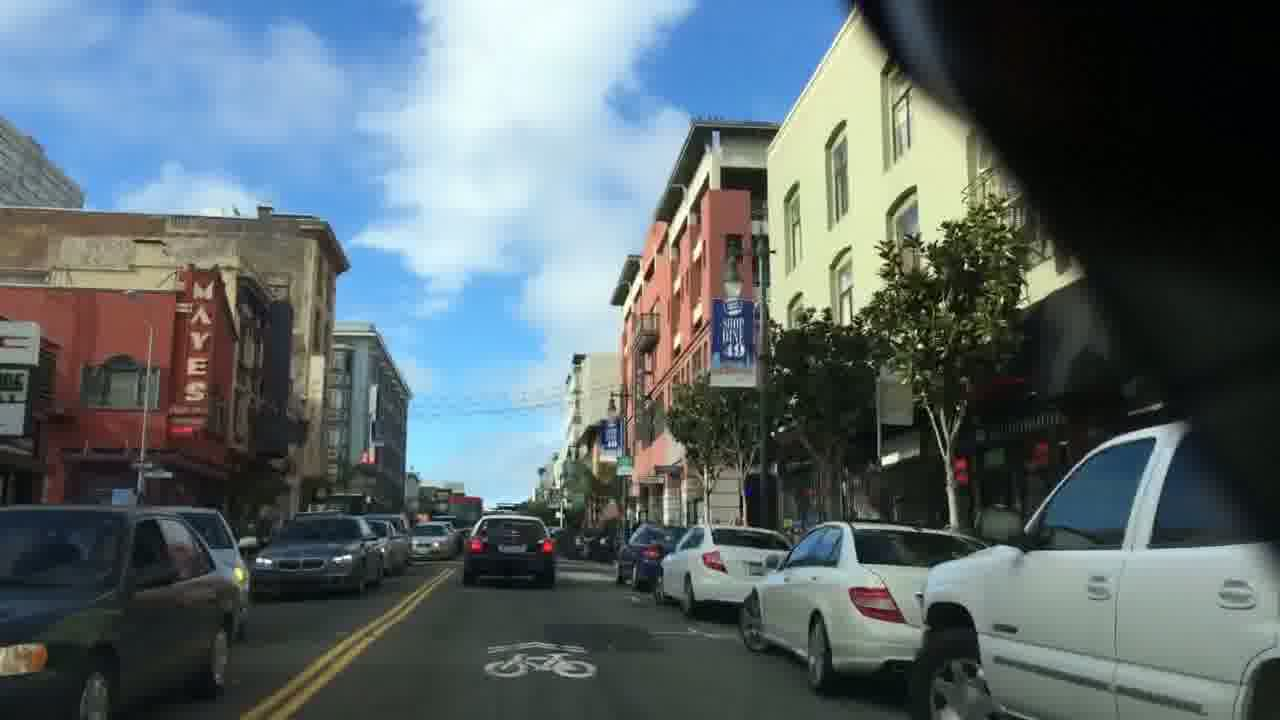car: (903, 414, 1280, 720), (0, 502, 230, 719), (736, 518, 990, 696), (652, 521, 793, 617), (251, 512, 385, 598), (460, 513, 554, 587), (616, 521, 688, 591), (407, 521, 456, 560)
